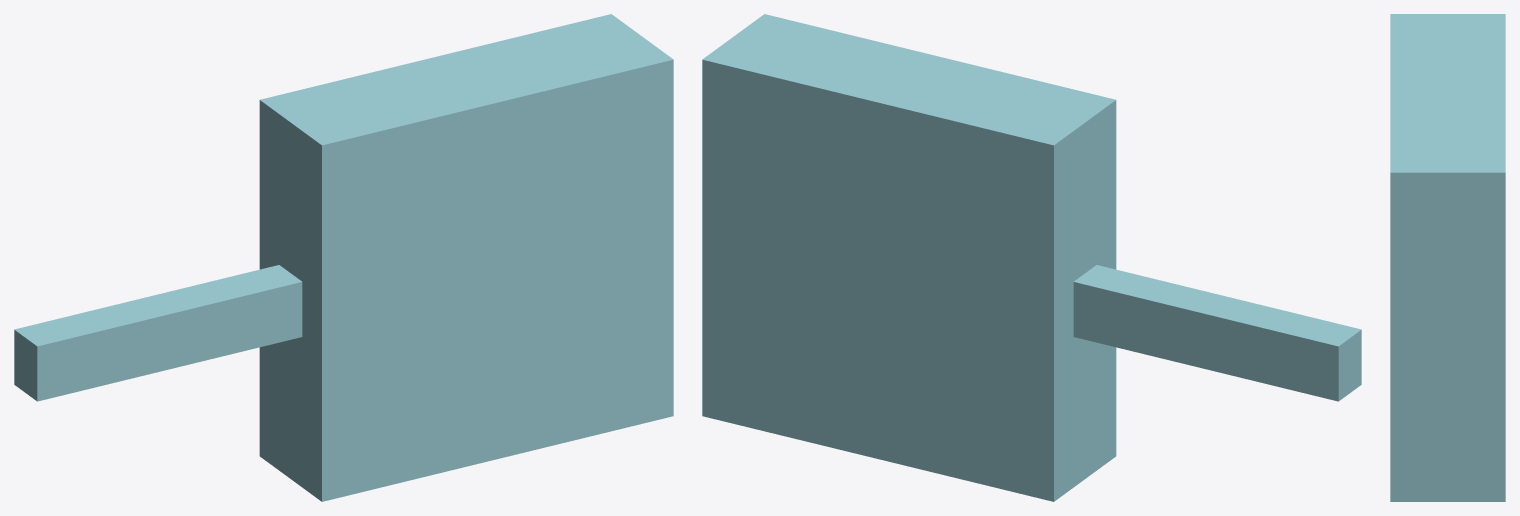
File: cuboid_brush_v10013.obj
3 renders of one model, left to right at view 1: azimuth 30°, elevation 25°; view 2: azimuth 150°, elevation 25°; view 3: azimuth 270°, elevation 25°, orthographic. The views are drawn at different scales.
Bounding box in the file's own units: 0.2031 × 0.1122 × 0.0355.
1 material, 1 textured.
